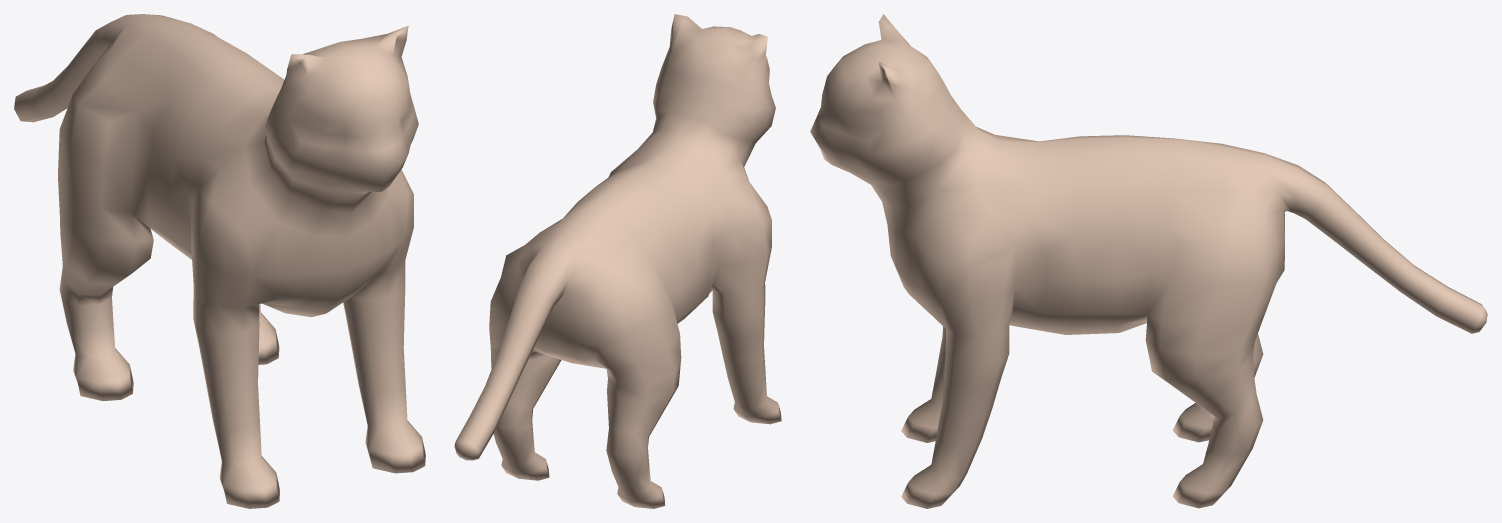
Rendered from Cat.fbx.
3 views of the same model, side by side, from view 1: azimuth 30°, elevation 25°; view 2: azimuth 150°, elevation 25°; view 3: azimuth 270°, elevation 25° (orthographic). The views are drawn at different scales.
Parts seen in each view (by area): view 1: cat; view 2: cat; view 3: cat.
Part boxes in pixels (x1,y1,x2,y2): cat: [14, 14, 425, 508]; cat: [454, 14, 781, 508]; cat: [810, 14, 1487, 508].
Bounding box in the file's own units: 22.25 × 44.41 × 64.41.
